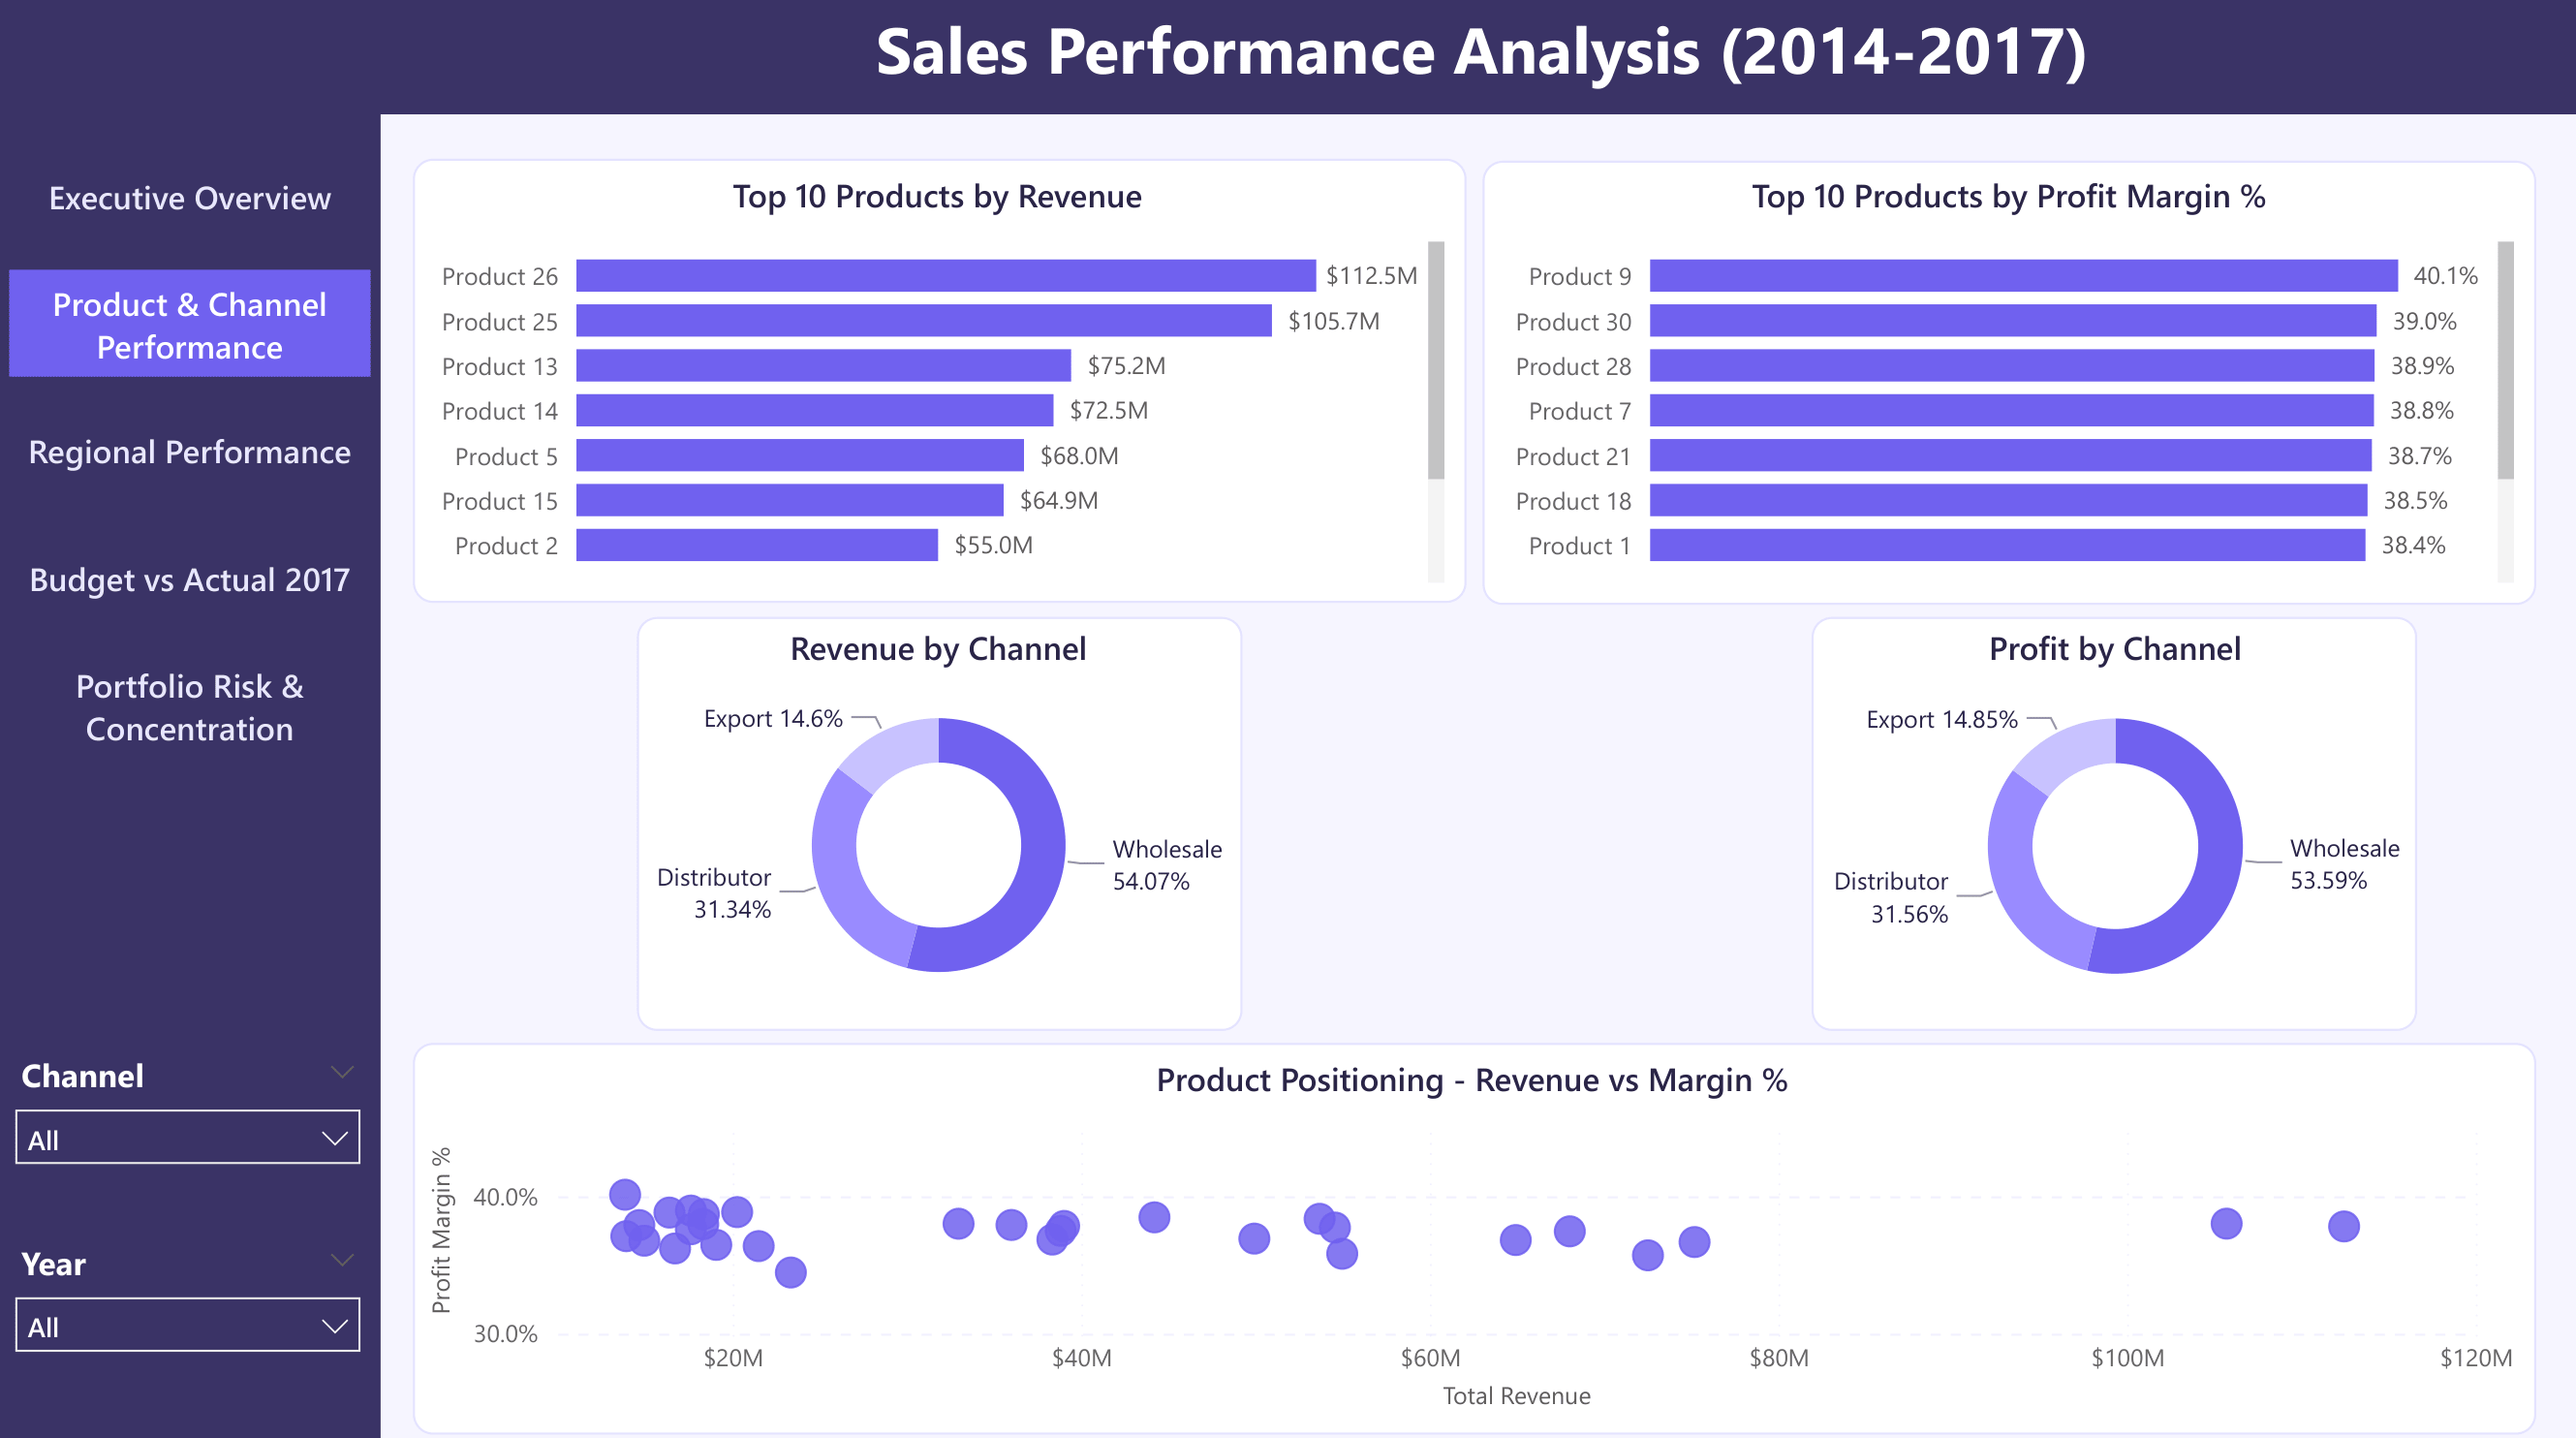

What the dashboard file says about the page in this screenshot:
{"tool":"powerbi","page":{"name":" Product & Channel Performance","canvas":[1280,720],"ordinal":1},"visuals":[{"type":"shape","box":[900,308.9,300,205.6],"z":0},{"type":"shape","box":[317.8,308.9,300,205.6],"z":1000},{"type":"shape","box":[207.1,520,1051.4,194.3],"z":2000},{"type":"shape","box":[0,0,1280,60],"z":3000},{"type":"textbox","box":[424.3,0,625.7,58.6],"z":4000},{"type":"shape","box":[207.1,82.4,521.4,220],"z":5000},{"type":"shape","box":[0,59.4,191,659.4],"z":6000},{"type":"slicer","fields":{"Values":["calendar.year"]},"box":[0,612.9,191.4,71.4],"z":7000},{"type":"pageNavigator","box":[7.1,74.1,178.8,304.7],"z":8000},{"type":"clusteredBarChart","title":"Top 10 Products by Revenue","fields":{"Category":["dim_products.product"],"Y":["_measures.Total Revenue"]},"box":[211.4,88.6,511.4,208.6],"z":9000},{"type":"shape","box":[737.1,82.9,521.4,220],"z":10000},{"type":"clusteredBarChart","title":"Top 10 Products by Profit Margin %","fields":{"Y":["_measures.Weighted Margin %"],"Category":["dim_products.product"]},"box":[742.9,88.6,510,208.6],"z":11000},{"type":"donutChart","title":"Revenue by Channel","fields":{"Category":["fact_sales.channel"],"Y":["_measures.Total Revenue"]},"box":[321.1,313.3,293.3,196.7],"z":12000},{"type":"donutChart","title":"Profit by Channel","fields":{"Category":["fact_sales.channel"],"Y":["_measures.Total Profit"]},"box":[904.4,313.3,292.2,197.8],"z":13000},{"type":"scatterChart","title":"Product Positioning - Revenue vs Margin %","fields":{"Category":["dim_products.product"],"X":["_measures.Total Revenue"],"Y":["_measures.Weighted Margin %"]},"box":[211.4,527.1,1041.4,180],"z":14000},{"type":"slicer","fields":{"Values":["fact_sales.channel"]},"box":[0,520,191.4,71.4],"z":15000}]}

Visuals, with their boxes on the page's 1280x720 design canvas (x1, y1, x2, y2). These are canvas units, not pixel positions in the 2576x1438 screenshot, which may show the page scaled, cropped or inside an application window:
shape: BBox(900, 309, 1200, 514)
shape: BBox(318, 309, 618, 514)
shape: BBox(207, 520, 1258, 714)
shape: BBox(0, 0, 1280, 60)
textbox: BBox(424, 0, 1050, 59)
shape: BBox(207, 82, 728, 302)
shape: BBox(0, 59, 191, 719)
slicer - calendar.year: BBox(0, 613, 191, 684)
pageNavigator: BBox(7, 74, 186, 379)
"Top 10 Products by Revenue" clusteredBarChart: BBox(211, 89, 723, 297)
shape: BBox(737, 83, 1258, 303)
"Top 10 Products by Profit Margin %" clusteredBarChart: BBox(743, 89, 1253, 297)
"Revenue by Channel" donutChart: BBox(321, 313, 614, 510)
"Profit by Channel" donutChart: BBox(904, 313, 1197, 511)
"Product Positioning - Revenue vs Margin %" scatterChart: BBox(211, 527, 1253, 707)
slicer - fact_sales.channel: BBox(0, 520, 191, 591)
